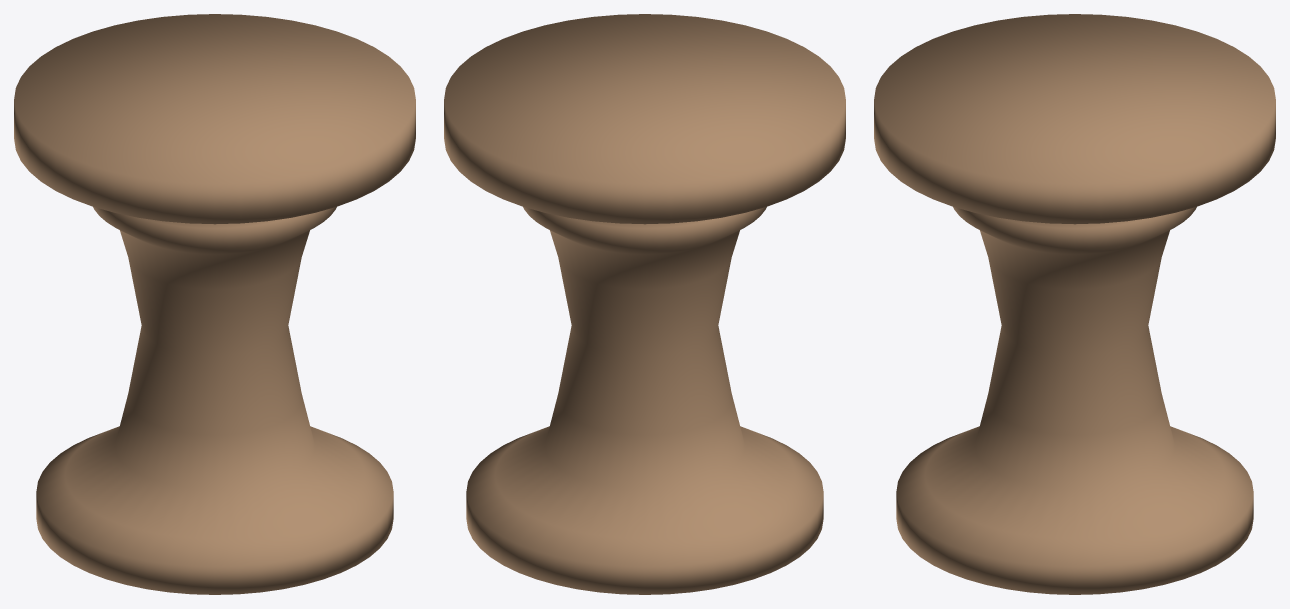
Rendered from tabouret.glb.
3 renders of one model, left to right at view 1: azimuth 30°, elevation 25°; view 2: azimuth 150°, elevation 25°; view 3: azimuth 270°, elevation 25°, orthographic.
Visible parts, largest first — view 1: Tabouret royal; view 2: Tabouret royal; view 3: Tabouret royal.
Part boxes in pixels (bbox=[...]): Tabouret royal: bbox=[14, 14, 415, 594]; Tabouret royal: bbox=[444, 14, 845, 594]; Tabouret royal: bbox=[874, 14, 1275, 594].
Size of the model in its own units: 0.45 by 0.52 by 0.45.
